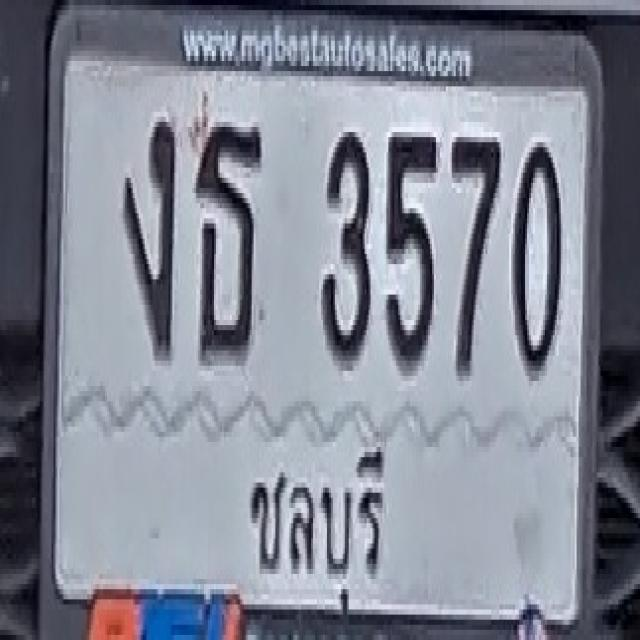0: (512, 137, 560, 376)
3: (321, 127, 371, 366)
5: (385, 132, 437, 371)
7: (451, 132, 500, 376)
A07: (123, 117, 174, 355)
A24: (195, 122, 263, 361)
CBI: (232, 429, 394, 622)
